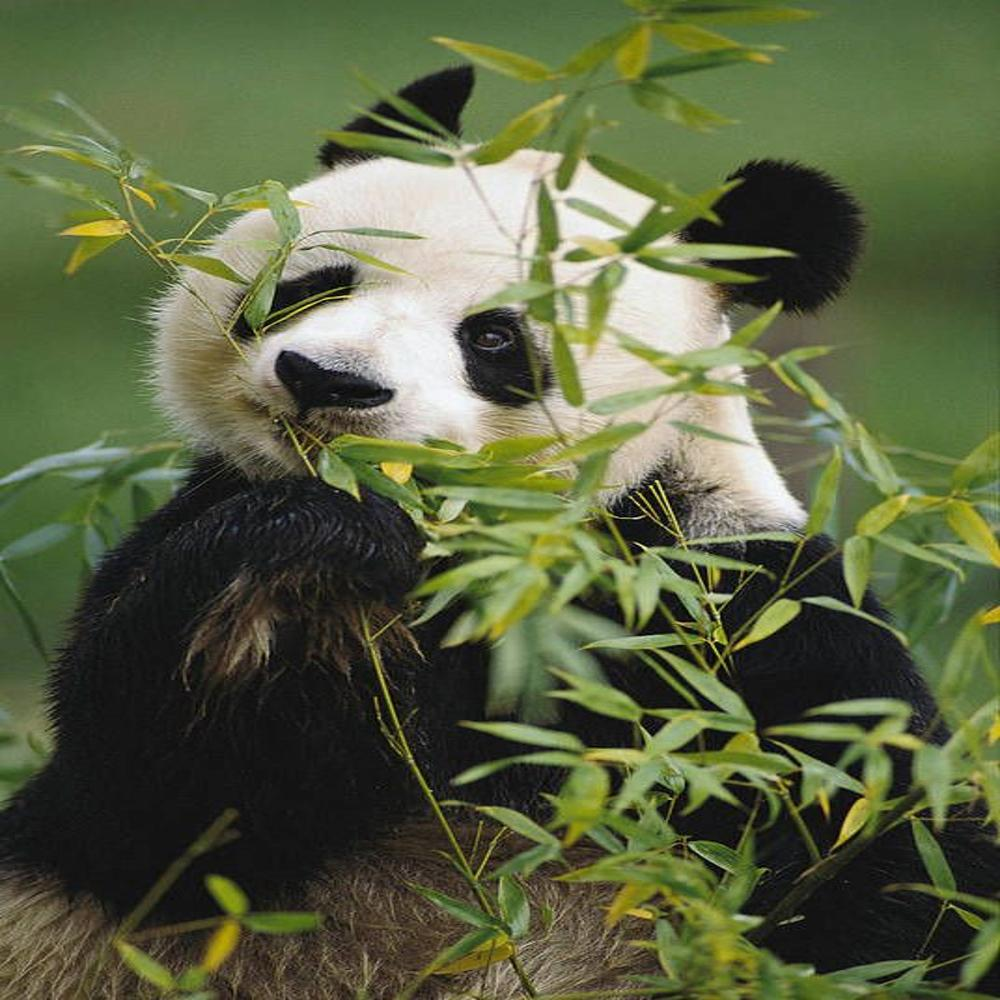panda: (30, 64, 979, 1000)
